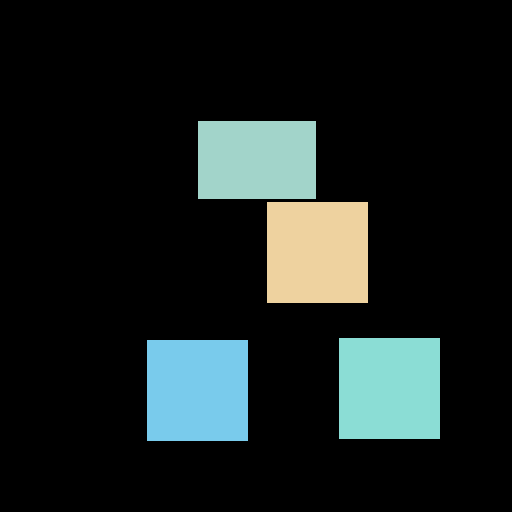rectangle: (198, 121, 315, 198)
square: (147, 340, 247, 440), (339, 338, 439, 438), (267, 202, 367, 302)
